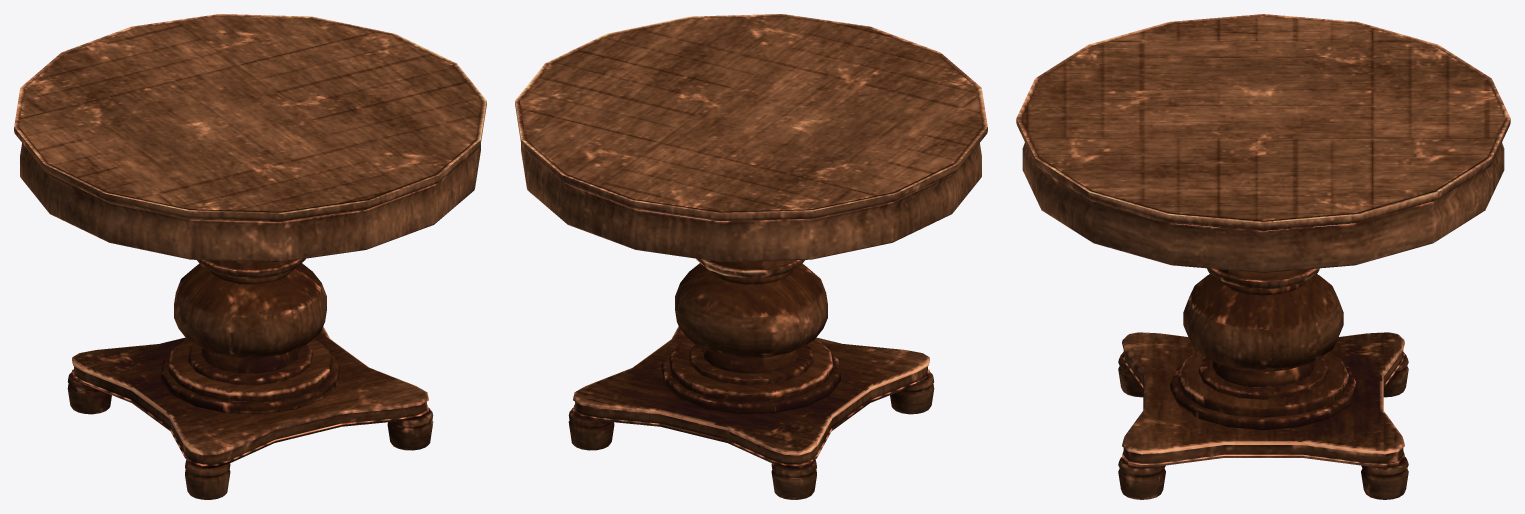
Rendered from RoundTable.fbx.
3 views of the same model, side by side, from view 1: azimuth 30°, elevation 25°; view 2: azimuth 150°, elevation 25°; view 3: azimuth 270°, elevation 25° (orthographic). The views are drawn at different scales.
Visible parts, largest first — view 1: RoundTable; view 2: RoundTable; view 3: RoundTable.
Boxes of the visible parts, x1=… form: RoundTable: x1=14, y1=14, x2=486, y2=499; RoundTable: x1=515, y1=14, x2=987, y2=499; RoundTable: x1=1016, y1=14, x2=1510, y2=499.
Size of the model in its own units: 146 by 105 by 146.
Materials: 1 (1 with a texture image).
